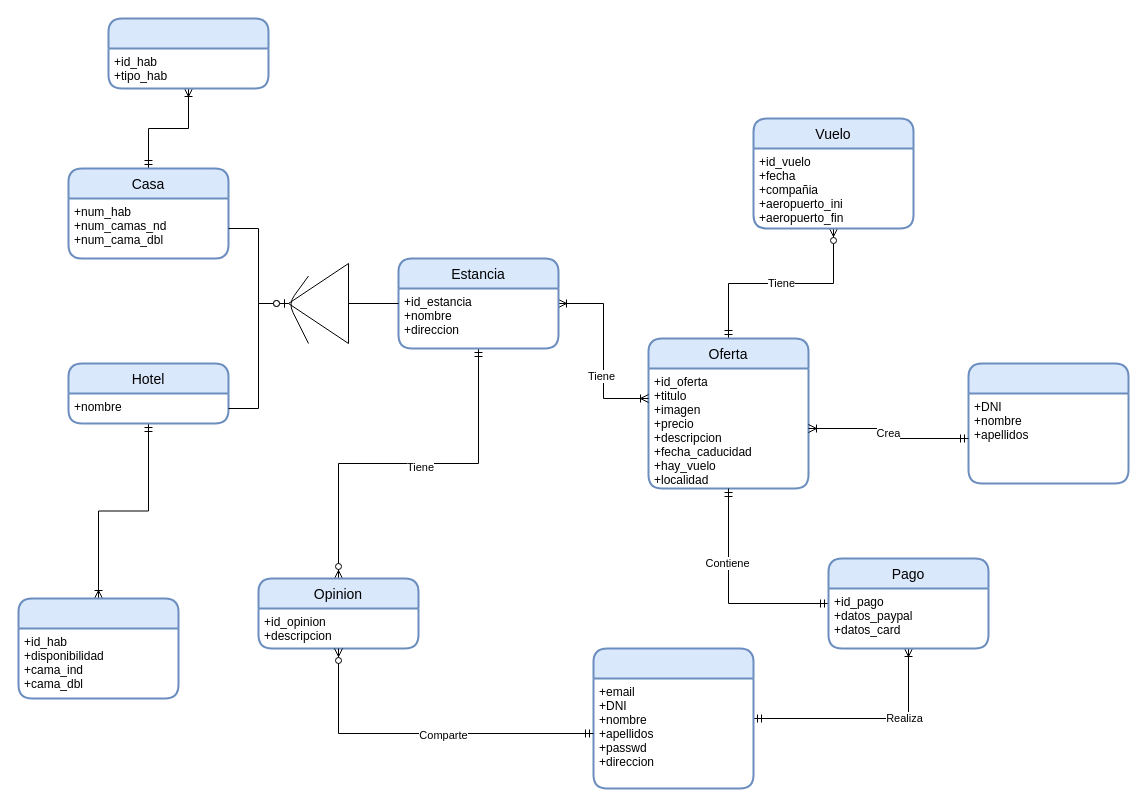
This 1146x806 diagram has some shape labels left out. Each missing label, with the box of its shape:
Cliente: (592, 647, 754, 789)
Habitaciones_casa: (107, 17, 269, 89)
Habitaciones_hotel: (17, 597, 179, 699)
Personal: (967, 362, 1129, 484)
